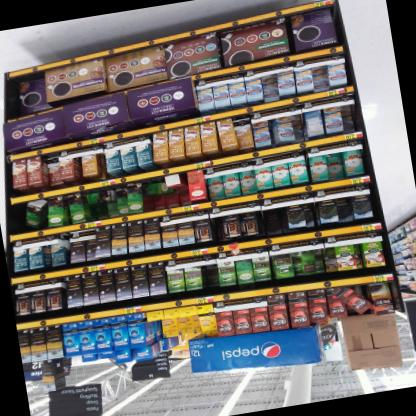empty_space: (200, 264, 220, 295), (8, 201, 25, 233)
